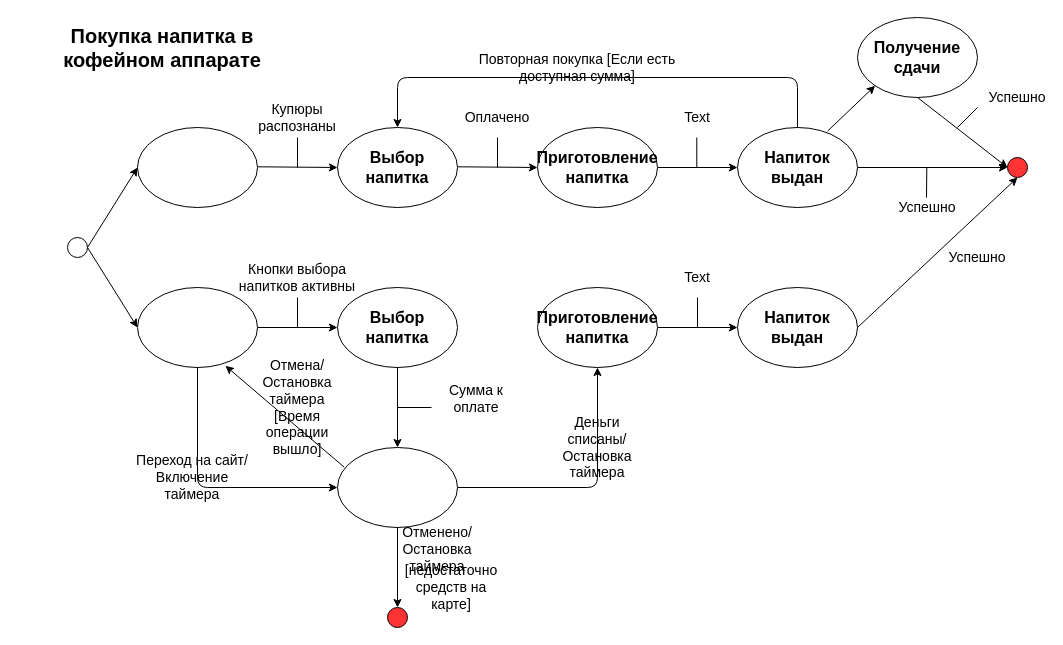
Image size: 1063x645. Some labels were removed from this diagram. The shapes that lost their labels are listed below. From the top down, each one's centre as x and y in pixels, then its label:
At (x=197, y=167): "Ввод купюры".
At (x=197, y=327): "Скан QR кода".
At (x=397, y=487): "Оплата".
